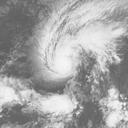cyclone: (44, 32, 81, 80)
